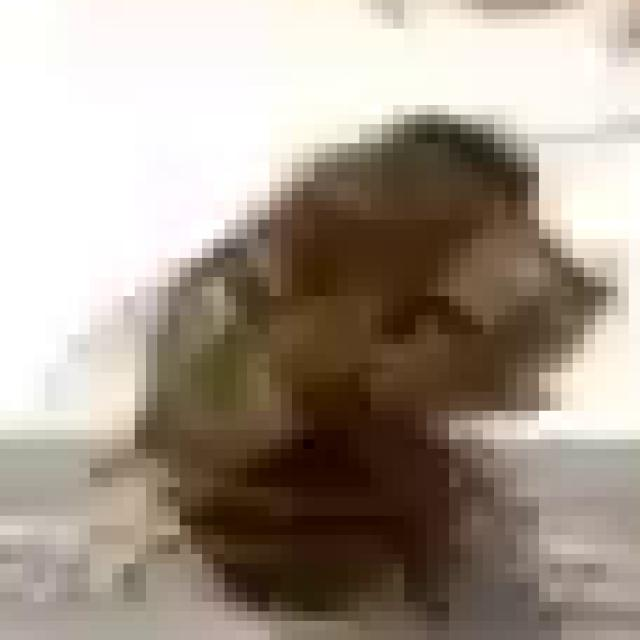honeybee: (145, 118, 555, 609)
